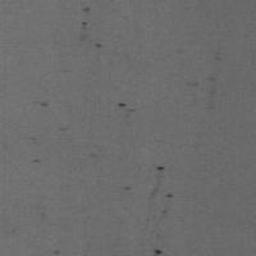Inclusion: (122, 165, 175, 215), (184, 49, 224, 111), (77, 5, 104, 49), (116, 101, 137, 115), (40, 248, 61, 256), (31, 157, 44, 165), (40, 100, 51, 108), (58, 125, 69, 133), (152, 248, 163, 256), (90, 151, 99, 160)
